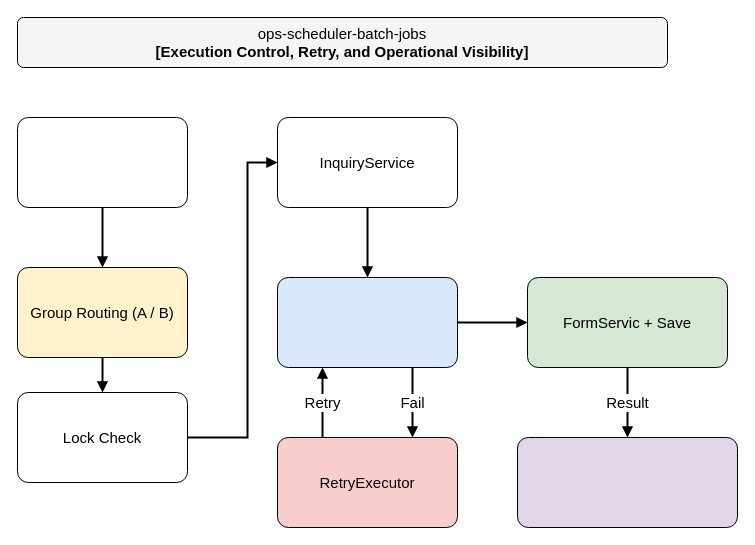
Image size: 755x545. Some labels were removed from this diagram. Each missing label, with the centre of its shape:
"Ops API / Result Inquiry" goes at [627,482].
"Scheduler Trigger" goes at [102,162].
"StoreClient (Mock)" goes at [367,322].
